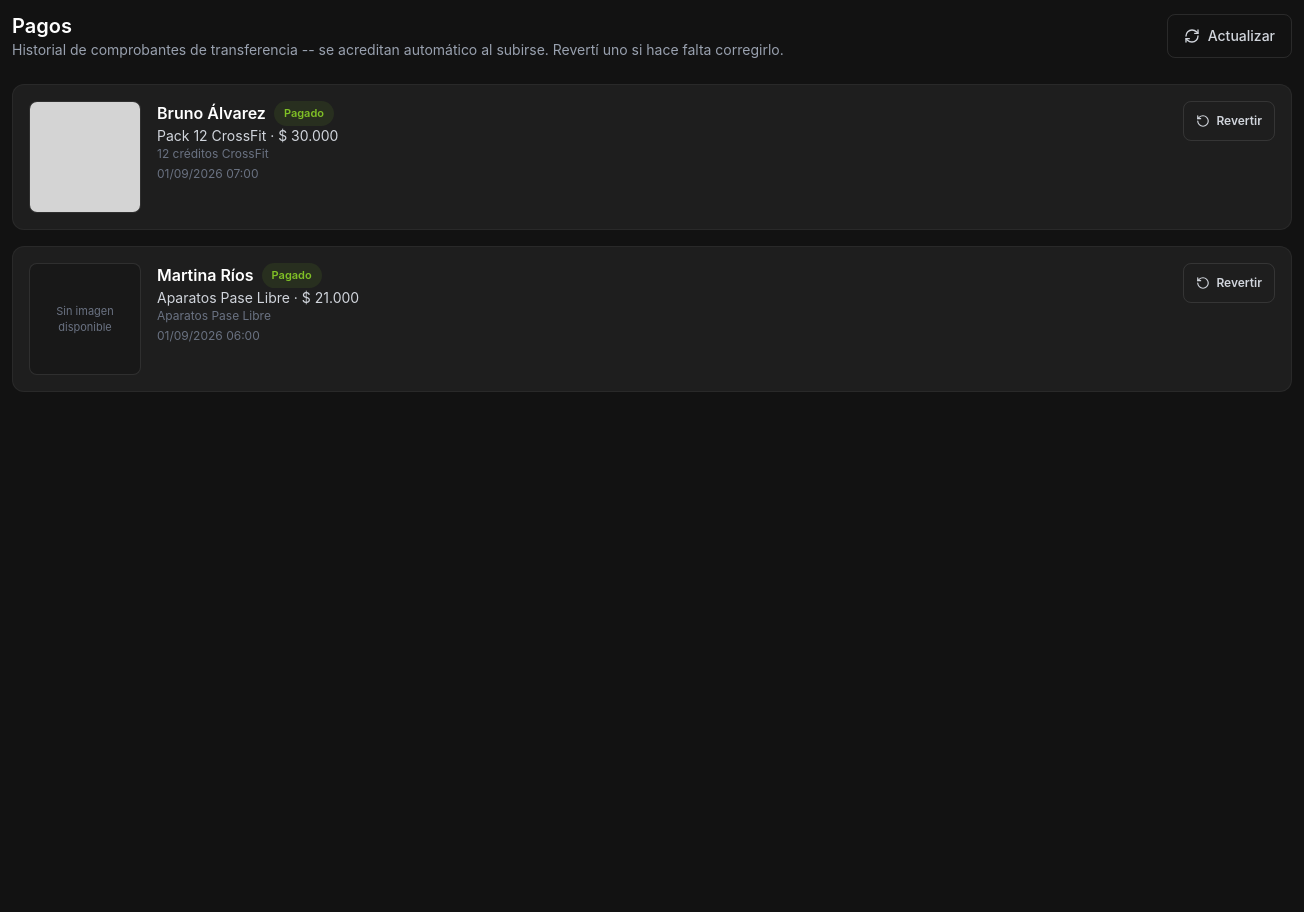
Scenario: Pagos (Fase 3 -- historial de comprobantes, acreditación automática + reversión) › Revertir sin avisos: muestra un toast de éxito con el nombre, SIN mostrar el banner de advertencia
Expected: the text "Bruno Álvarez" is shown, [157,101,266,125]
Click the button "Revertir" in the row of "Bruno Álvarez": {"x": 1229, "y": 121} [1183,101,1275,141]
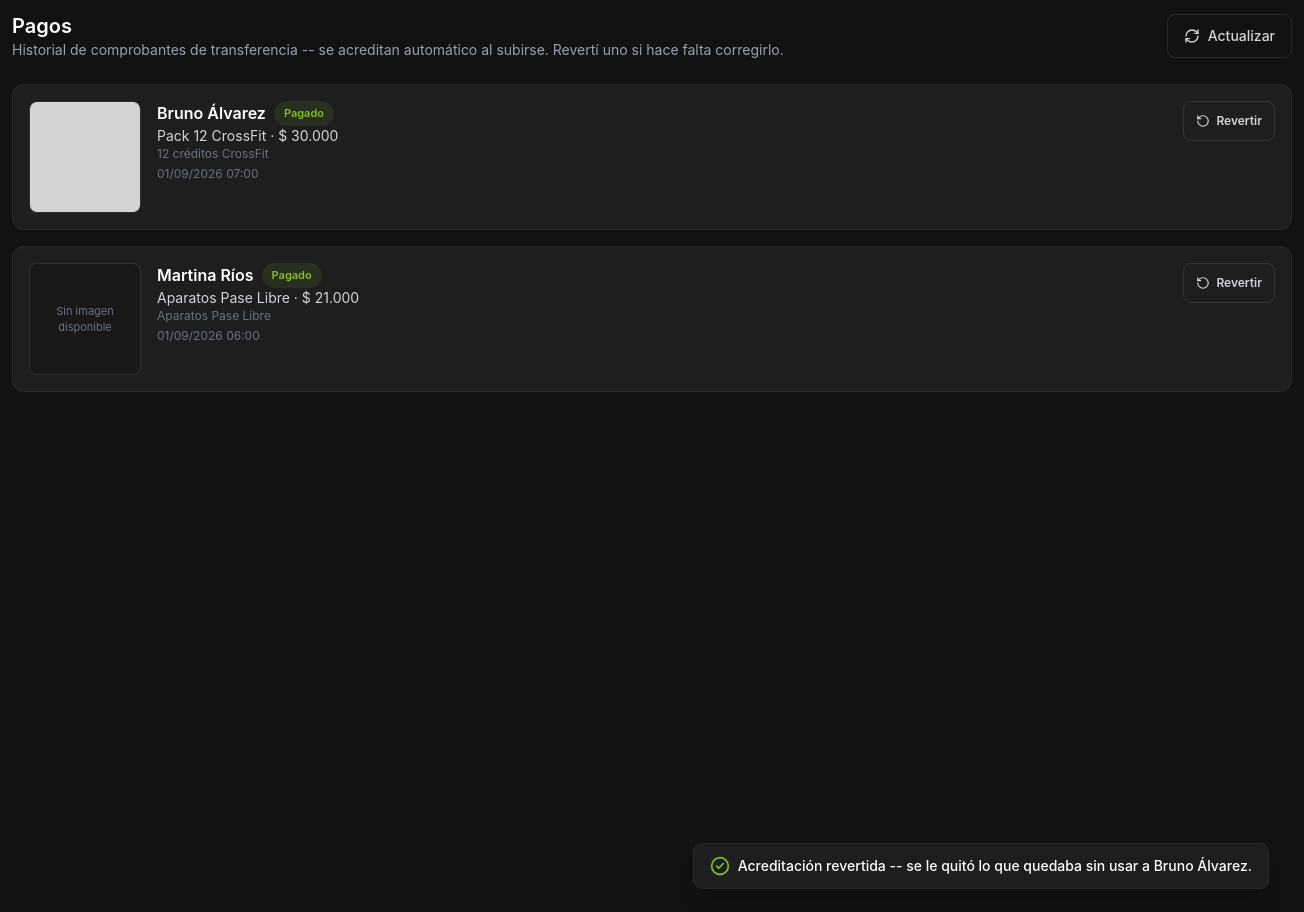
Now the text "Acreditación revertida -- se le quitó lo que quedaba sin usar a Bruno Álvarez." is shown, box [738,856,1252,876]
